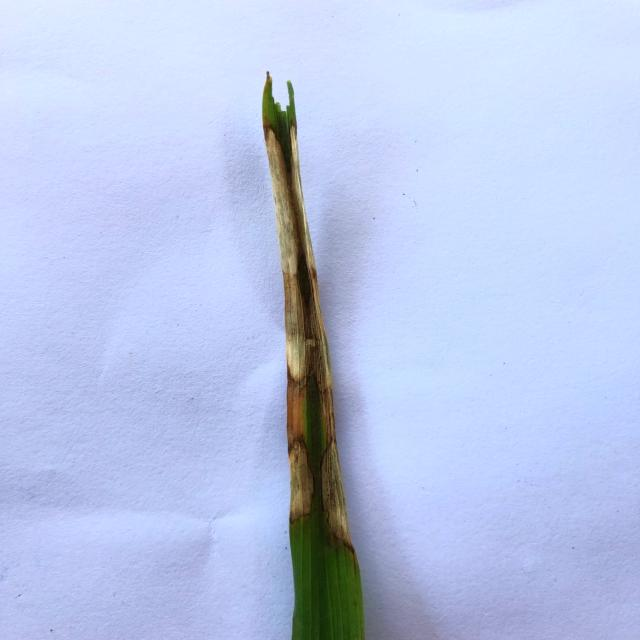leaf blight: (260, 127, 314, 525), (302, 198, 351, 546)
